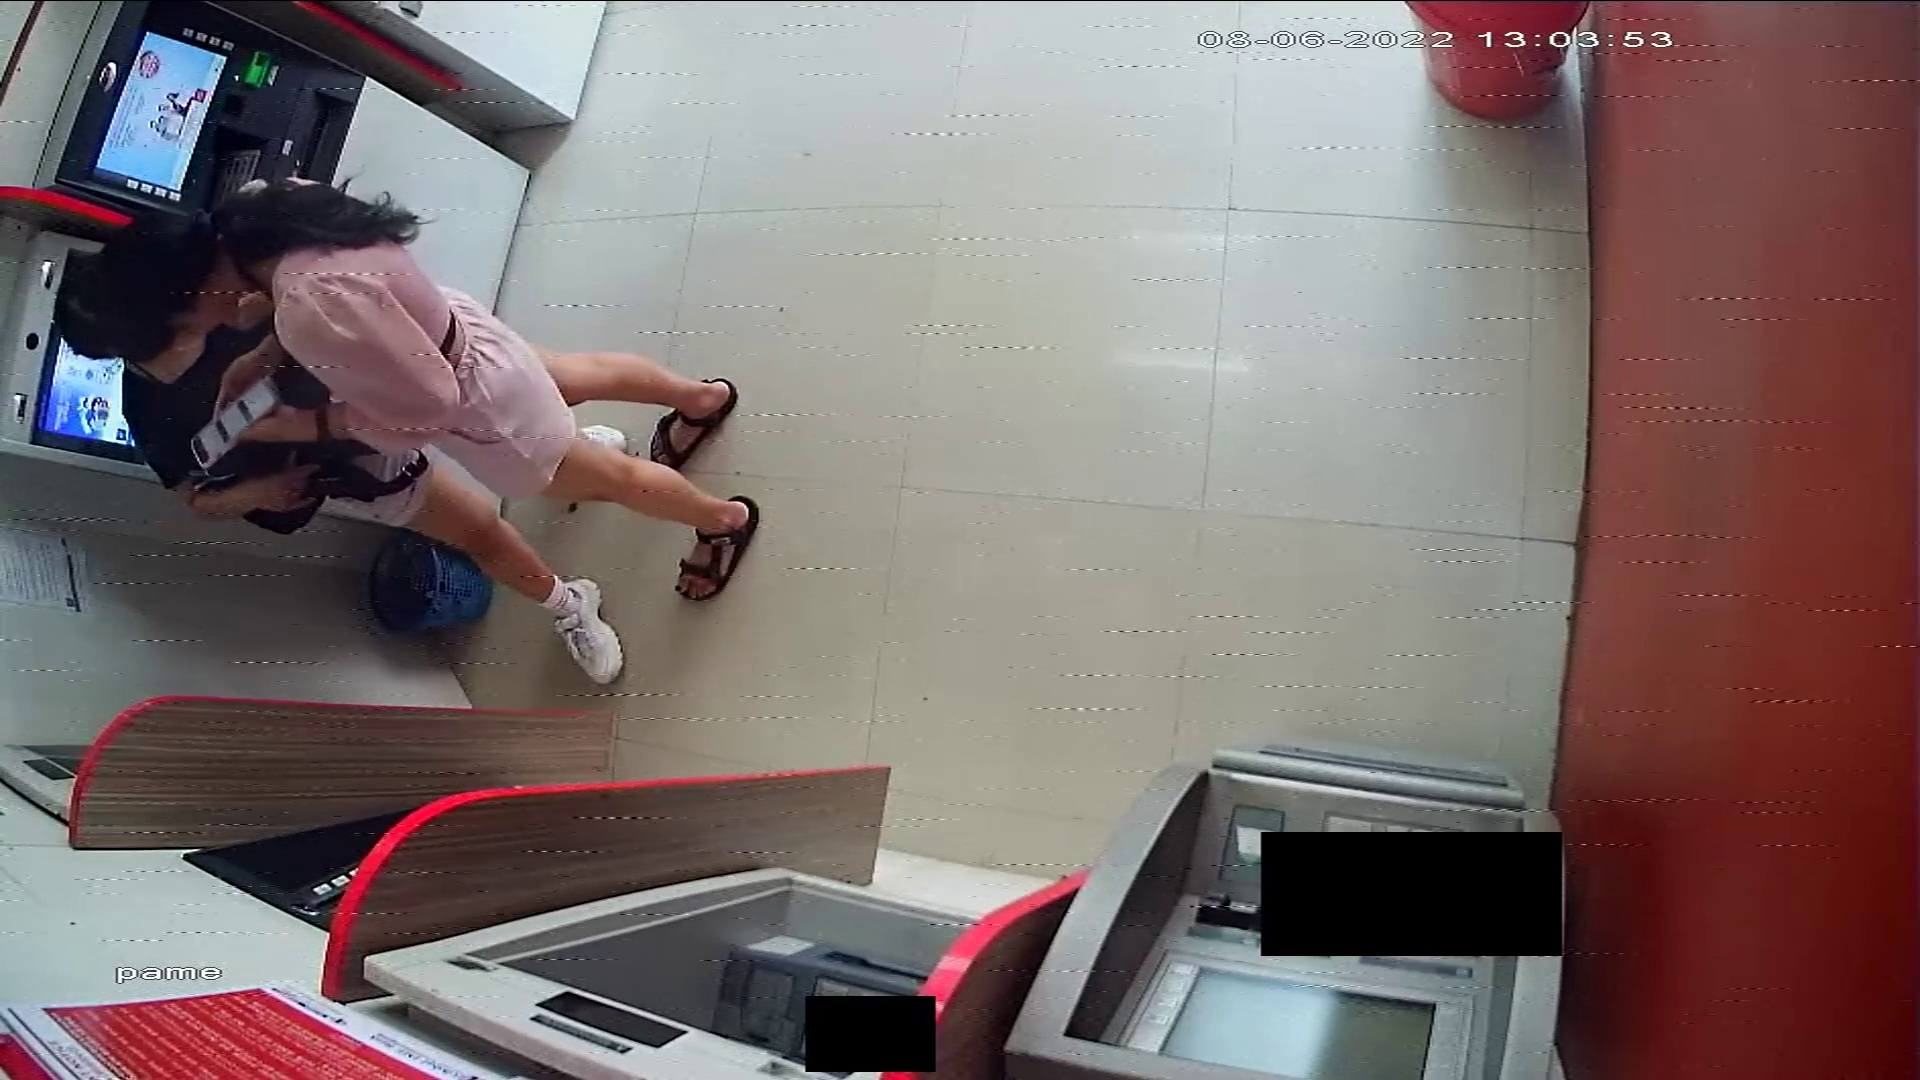person: (93, 173, 766, 604), (53, 238, 639, 686)
phone: (184, 376, 278, 470)
